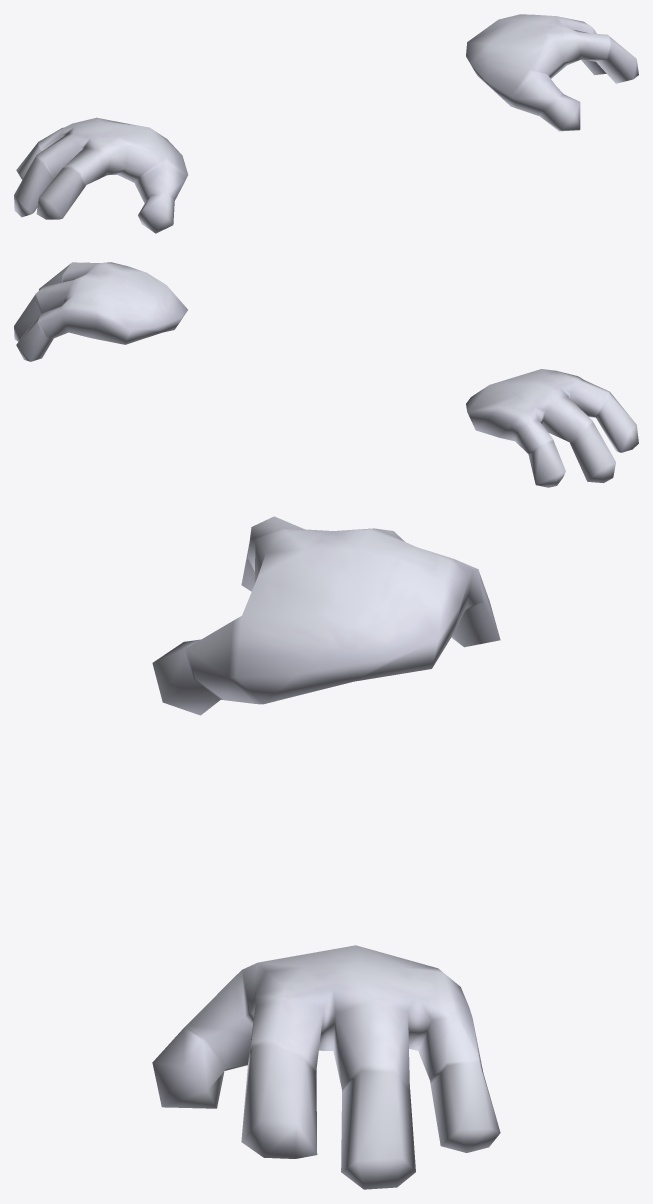
File: Mains.fbx
3 renders of one model, top to bottom at view 1: azimuth 30°, elevation 25°; view 2: azimuth 150°, elevation 25°; view 3: azimuth 270°, elevation 25°, orthographic. The views are drawn at different scales.
Visible parts, largest first — view 1: Halloween Joker Mask.005, Halloween Joker Mask.006; view 2: Halloween Joker Mask.005, Halloween Joker Mask.006; view 3: Halloween Joker Mask.006, Halloween Joker Mask.005.
Part boxes in pixels (bbox=[...]): Halloween Joker Mask.005: bbox=[14, 117, 188, 233]; Halloween Joker Mask.006: bbox=[466, 14, 638, 131]; Halloween Joker Mask.005: bbox=[466, 369, 638, 487]; Halloween Joker Mask.006: bbox=[14, 262, 187, 361]; Halloween Joker Mask.006: bbox=[152, 945, 500, 1189]; Halloween Joker Mask.005: bbox=[152, 516, 500, 715].
Size of the model in its own units: 771 by 95.75 by 195.
Materials: 1 (1 with a texture image).
